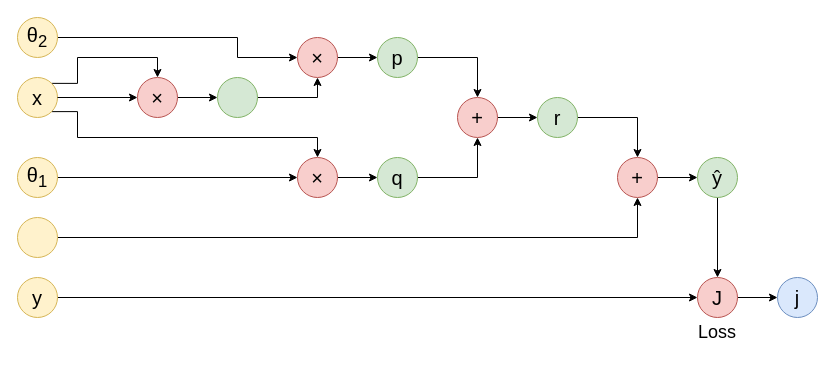
Image size: 835x365. Some labels were removed from this diagram. The box of each missing label's shape, as (x1, y1, x2, y2) in pixels:
x 2: (216, 76, 258, 118)
θ 0: (16, 216, 58, 258)
